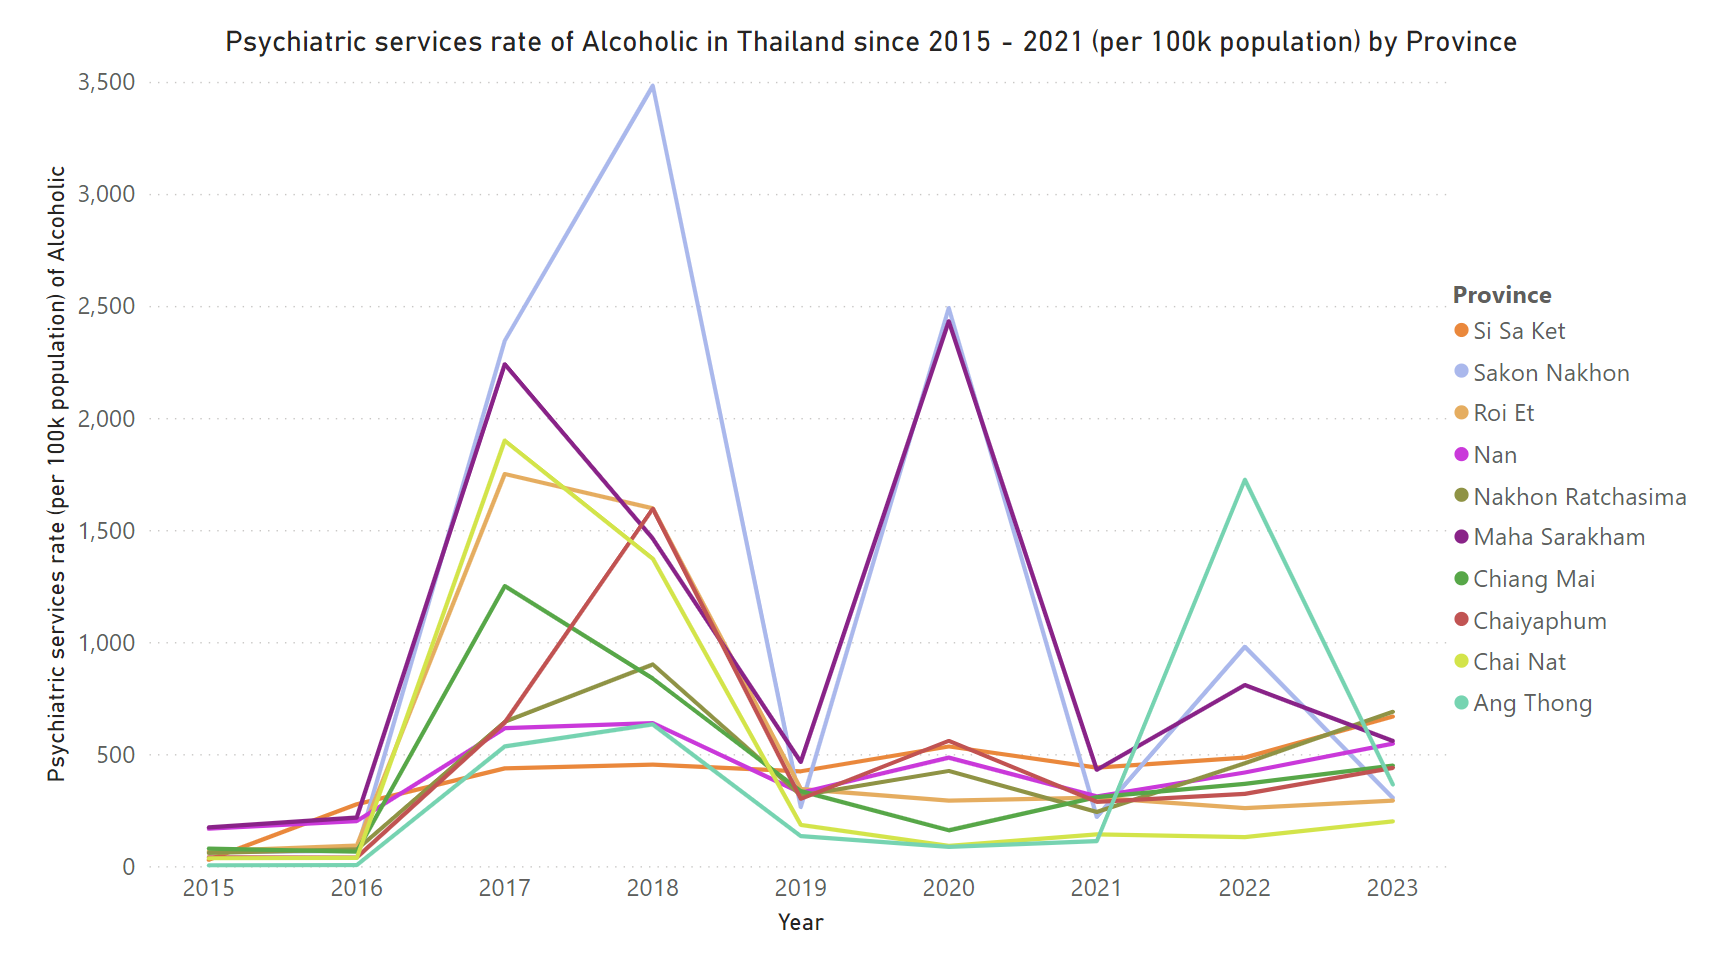

This screenshot's page, from the dashboard's own definition file:
{"tool":"powerbi","page":{"name":"Alcoholic","canvas":[1280,720],"ordinal":1},"visuals":[{"type":"lineChart","title":"Psychiatric services rate of Alcoholic in Thailand since 2015 - 2021 (per 100k population) by Province","fields":{"Category":["12 types of mental_58-66_data_calculated_eng.Year"],"Y":["Sum(12 types of mental_58-66_data_calculated_eng.Alcoholic)"],"Series":["12 types of mental_58-66_data_calculated_eng.Province"]},"box":[39.9,42.5,1185.4,650.3],"z":0}]}

Visuals, with their boxes in screenshot pixels (x1, y1, x2, y2), scaled from the page's 1280x720 canvas onto the 1730x960 screenshot:
"Psychiatric services rate of Alcoholic in Thailand since 2015 - 2021 (per 100k population) by Province" lineChart: 54:57:1656:924
